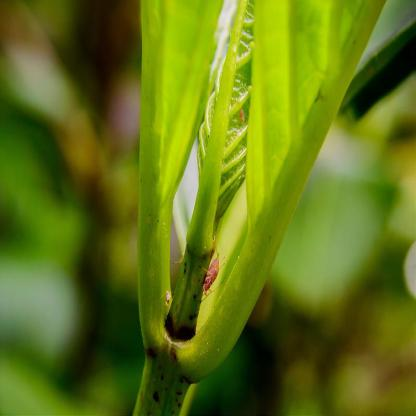aphid: (201, 241, 222, 300)
